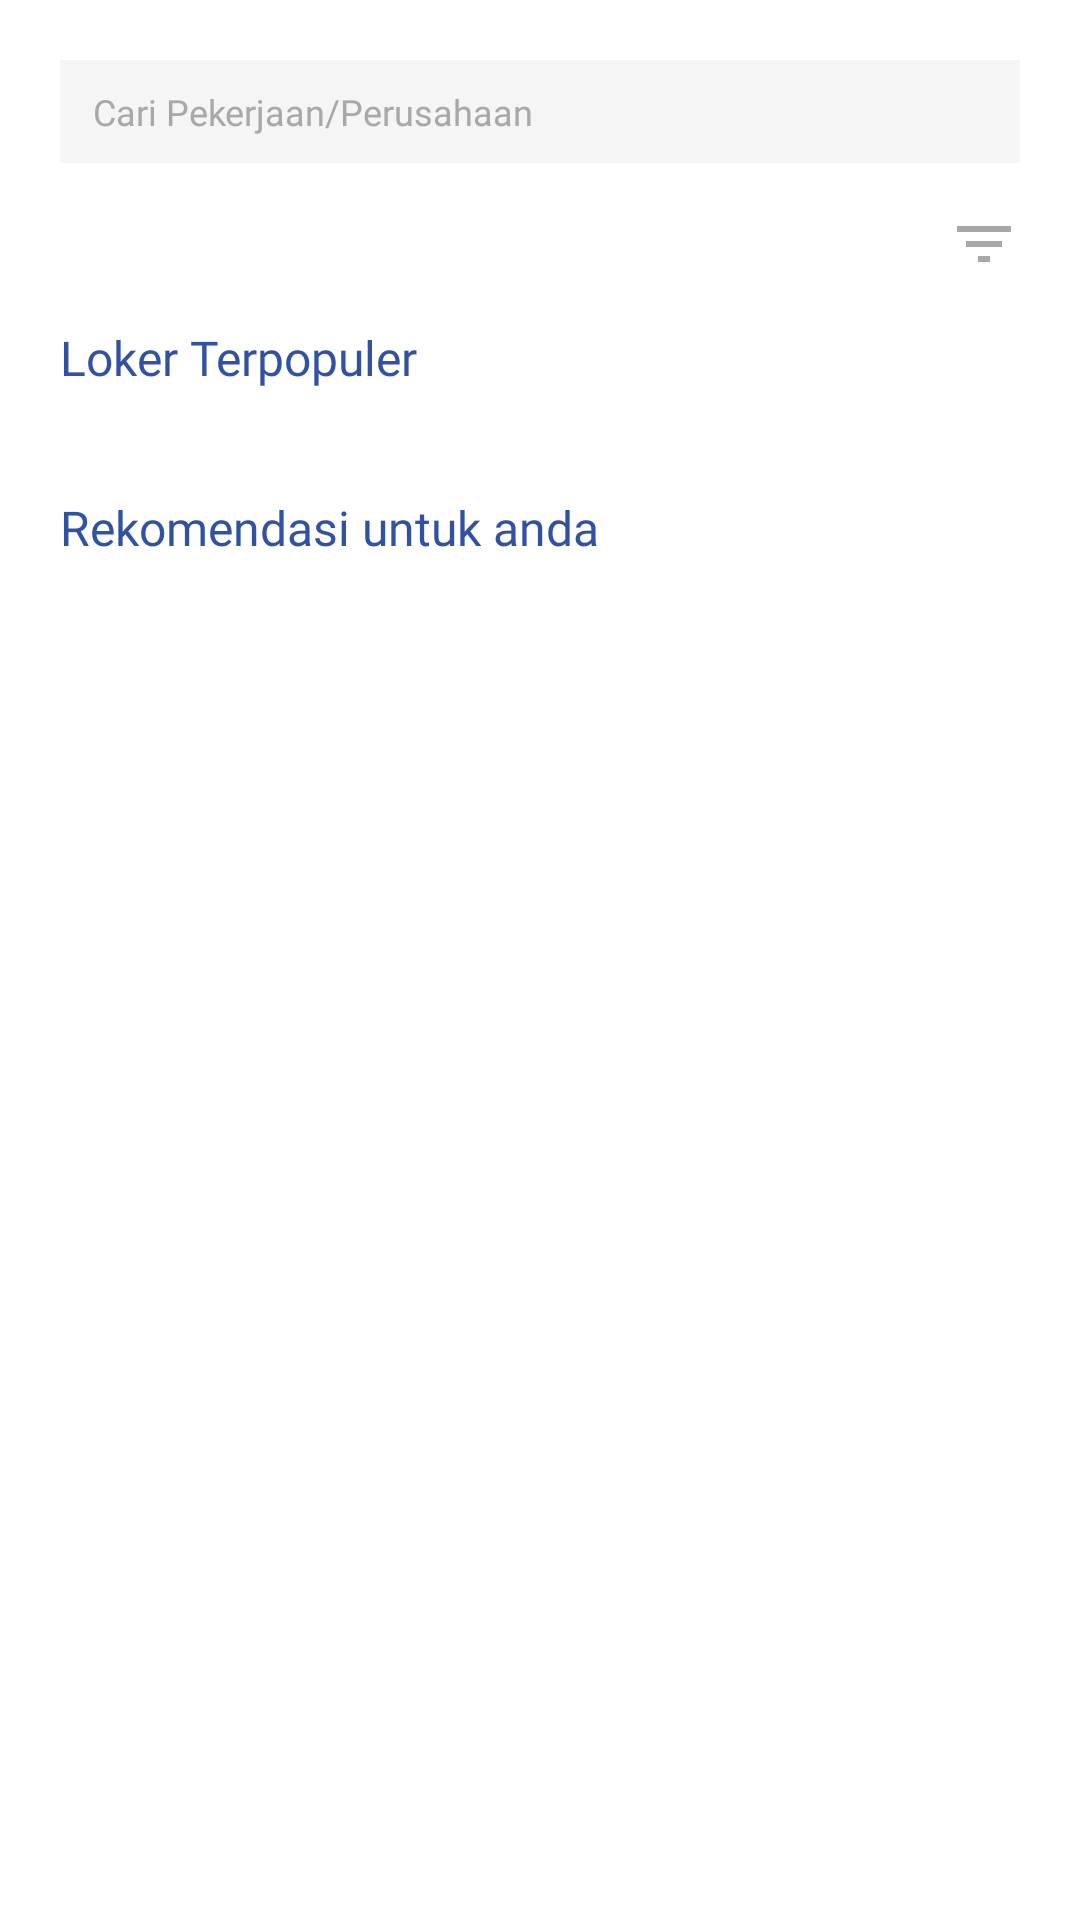

Screen size 1080px x 1920px. Icon name, then its box in pixels as (x1, y1, x2, y2):
filter list: (957, 226, 1011, 262)
